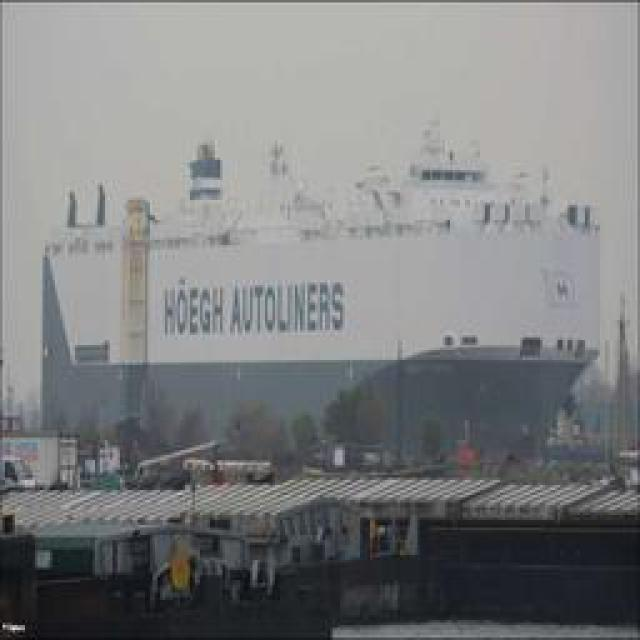Ship: (24, 115, 640, 480)
